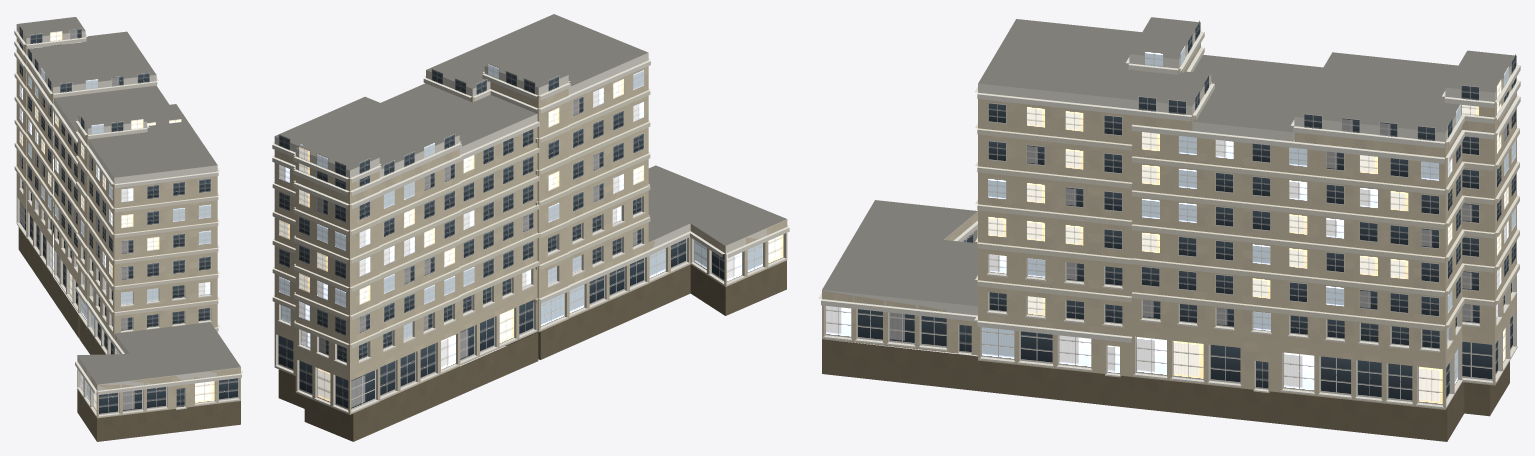
Rendered from z5R2_baden_n_cream.glb.
The picture shows the model from 3 angles, left to right: view 1: azimuth 30°, elevation 25°; view 2: azimuth 150°, elevation 25°; view 3: azimuth 270°, elevation 25°; orthographic projection. The views are drawn at different scales.
Visible parts, largest first — view 1: z5R2_baden_n_cream; view 2: z5R2_baden_n_cream; view 3: z5R2_baden_n_cream.
Boxes of the visible parts, x1,y1,x2,y2 form: z5R2_baden_n_cream: [14, 17, 243, 441]; z5R2_baden_n_cream: [272, 14, 789, 441]; z5R2_baden_n_cream: [818, 17, 1520, 441].
Bounding box in the file's own units: 30.34 × 28.69 × 55.
3 materials, 3 textured.
